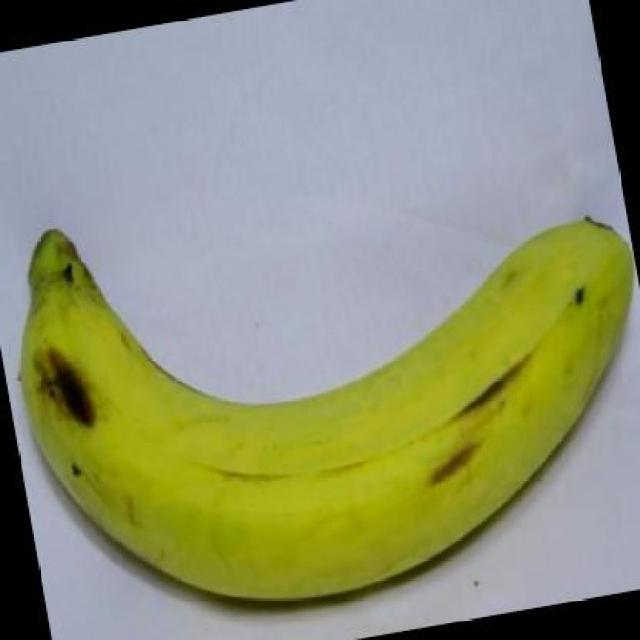unripe: (0, 178, 640, 611)
